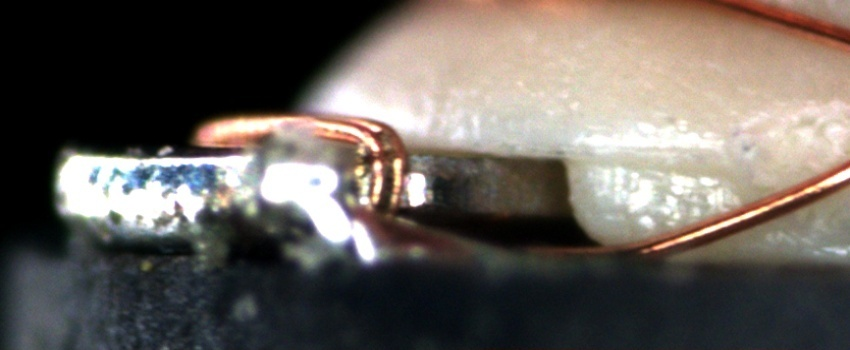DL: (578, 126, 730, 190)
TE: (188, 97, 430, 224)
